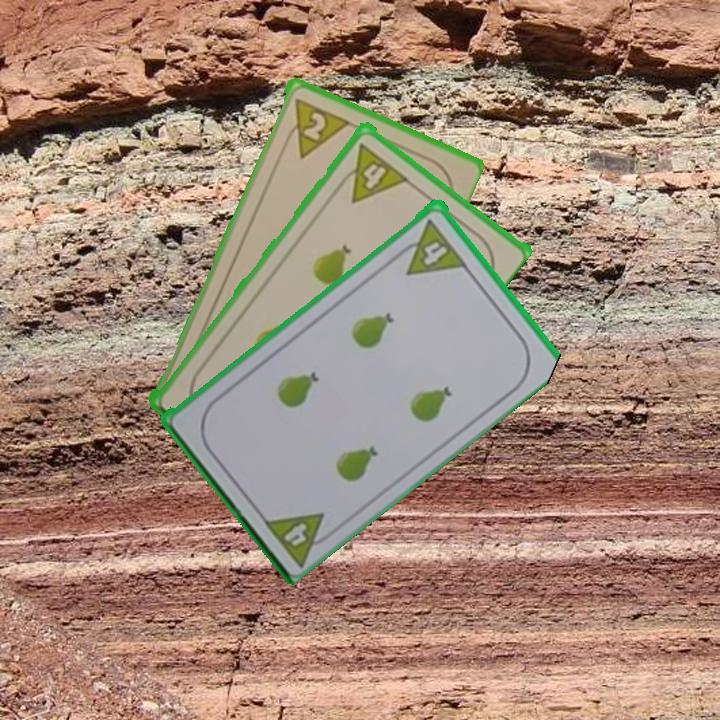2p: (280, 93, 350, 161)
4p: (332, 139, 410, 205), (406, 233, 466, 278), (280, 517, 311, 549)
